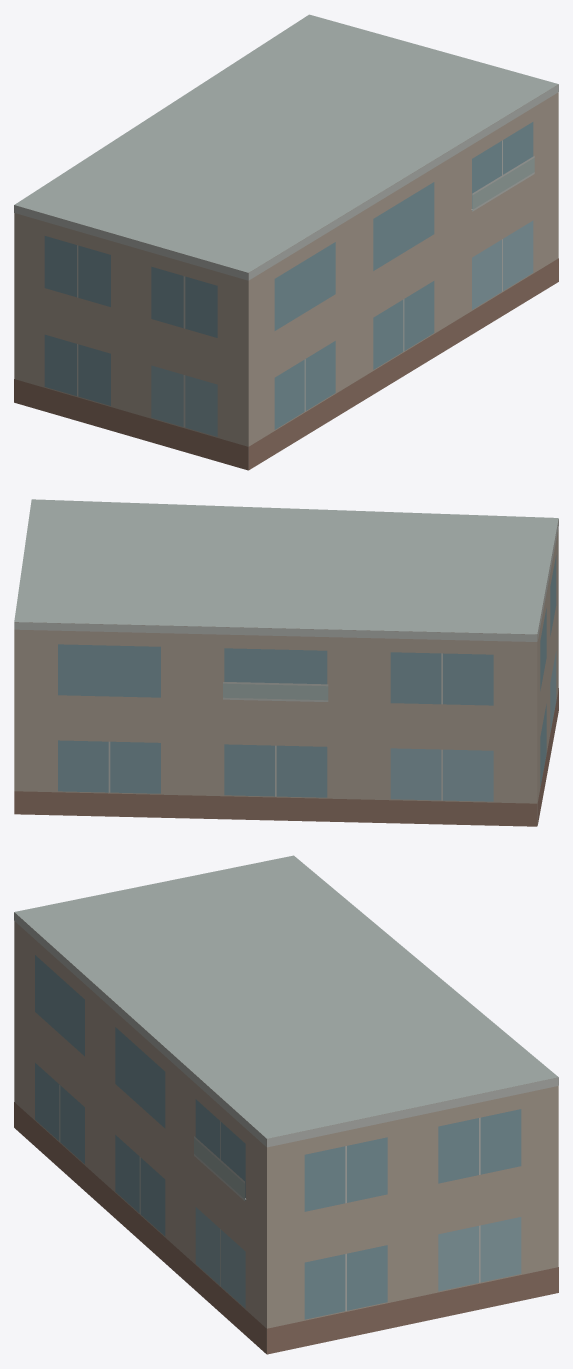
Rendered from survey-upis-32913474.glb.
The picture shows the model from 3 angles, top to bottom: view 1: azimuth 30°, elevation 25°; view 2: azimuth 150°, elevation 25°; view 3: azimuth 270°, elevation 25°; orthographic projection. The views are drawn at different scales.
Visible parts, largest first — view 1: survey-upis-32913474.tmp; view 2: survey-upis-32913474.tmp; view 3: survey-upis-32913474.tmp.
Boxes of the visible parts, x1,y1,x2,y2 form: survey-upis-32913474.tmp: [14, 14, 558, 470]; survey-upis-32913474.tmp: [14, 499, 558, 826]; survey-upis-32913474.tmp: [14, 855, 558, 1354].
Size of the model in its own units: 17.21 by 6.1 by 13.98.
